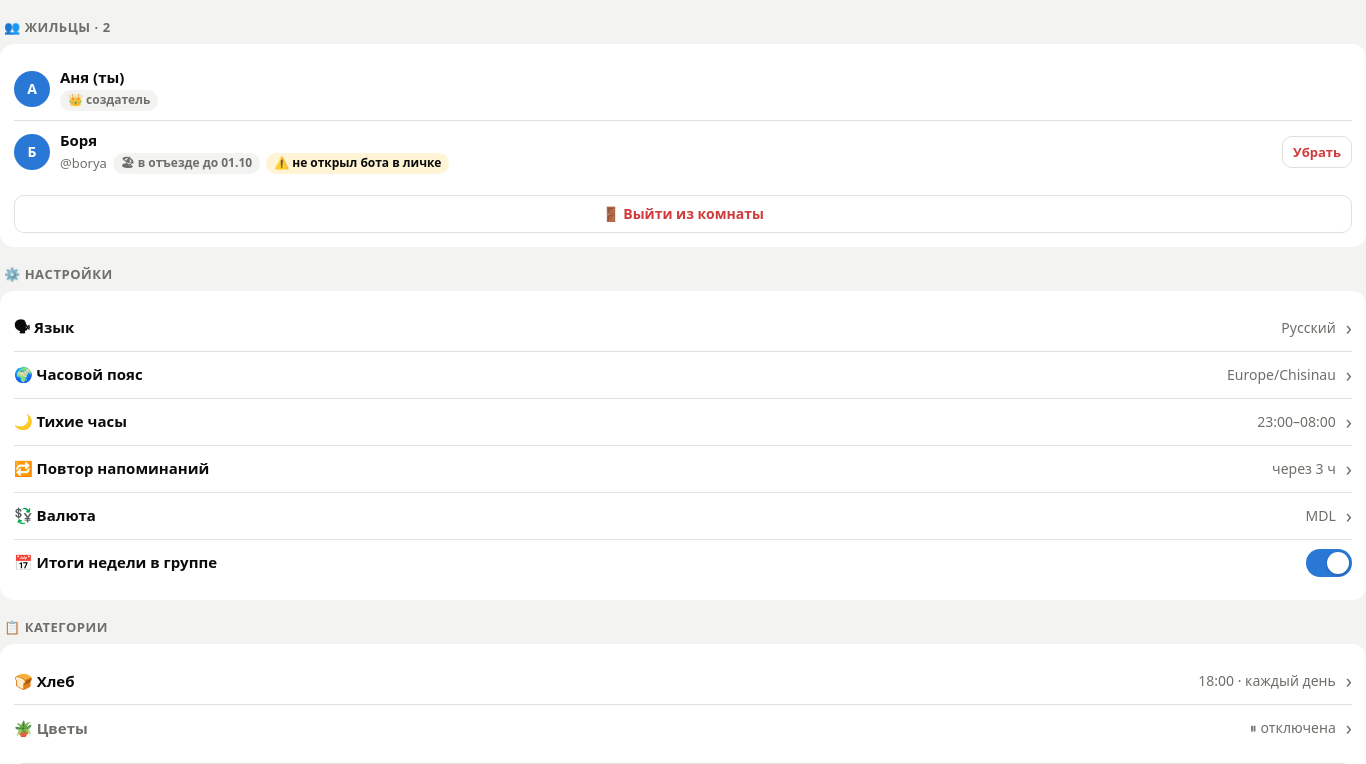
room actions › removes a roommate, leaves the room and exports after the right questions
Step 1. Click the button with aria-label "Убрать: Боря" → (1317, 152), box [1282, 136, 1352, 168]
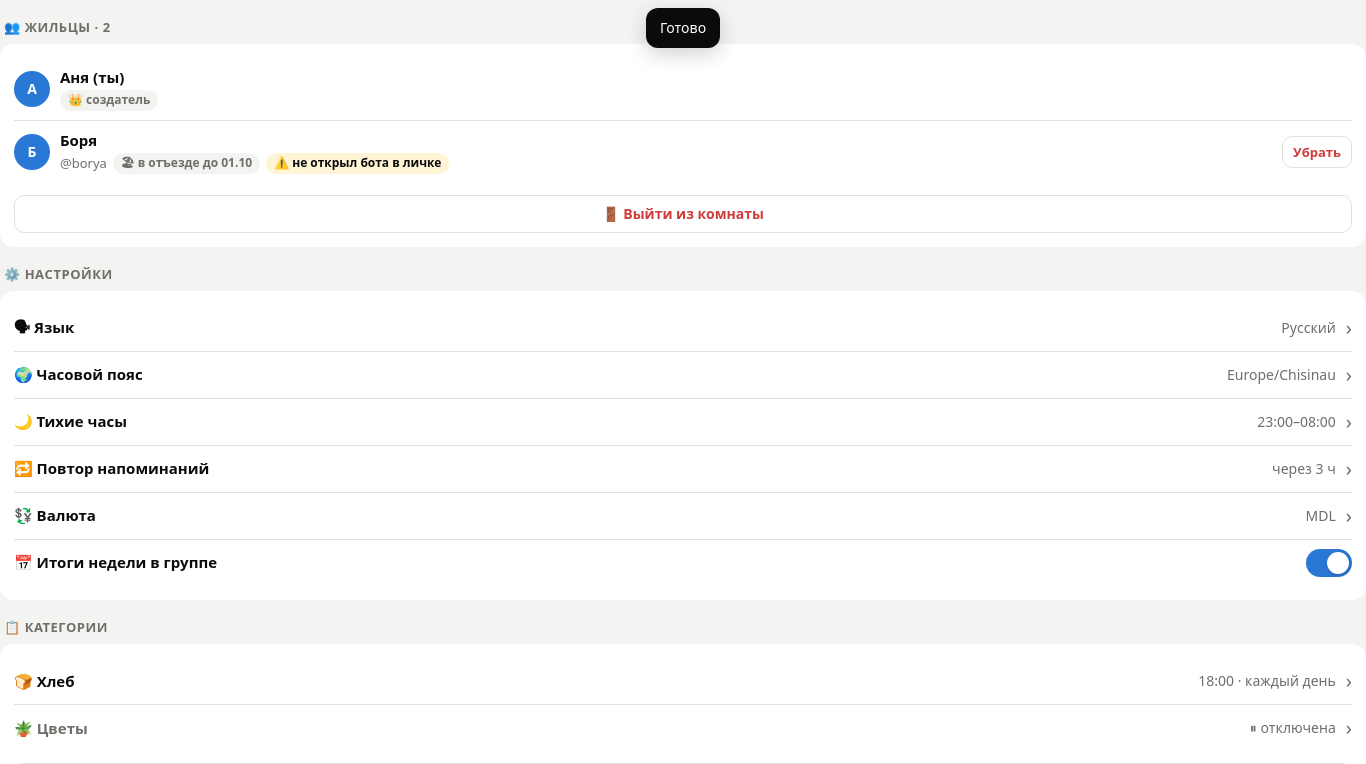
Step 2. Click the button "🚪 Выйти из комнаты" → (683, 214), box [14, 195, 1352, 233]
(page scrolled)
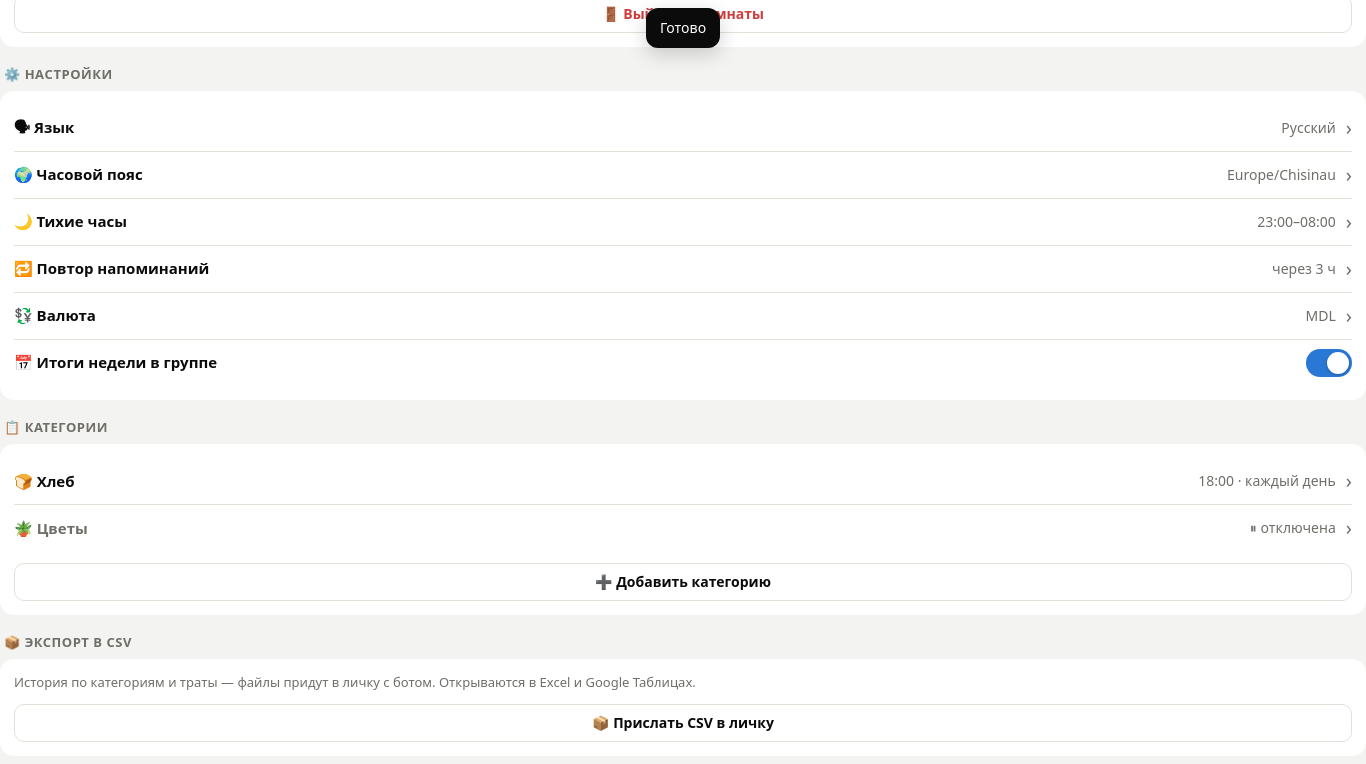
Step 3. Click the button "📦 Прислать CSV в личку" → (683, 722), box [14, 704, 1352, 742]
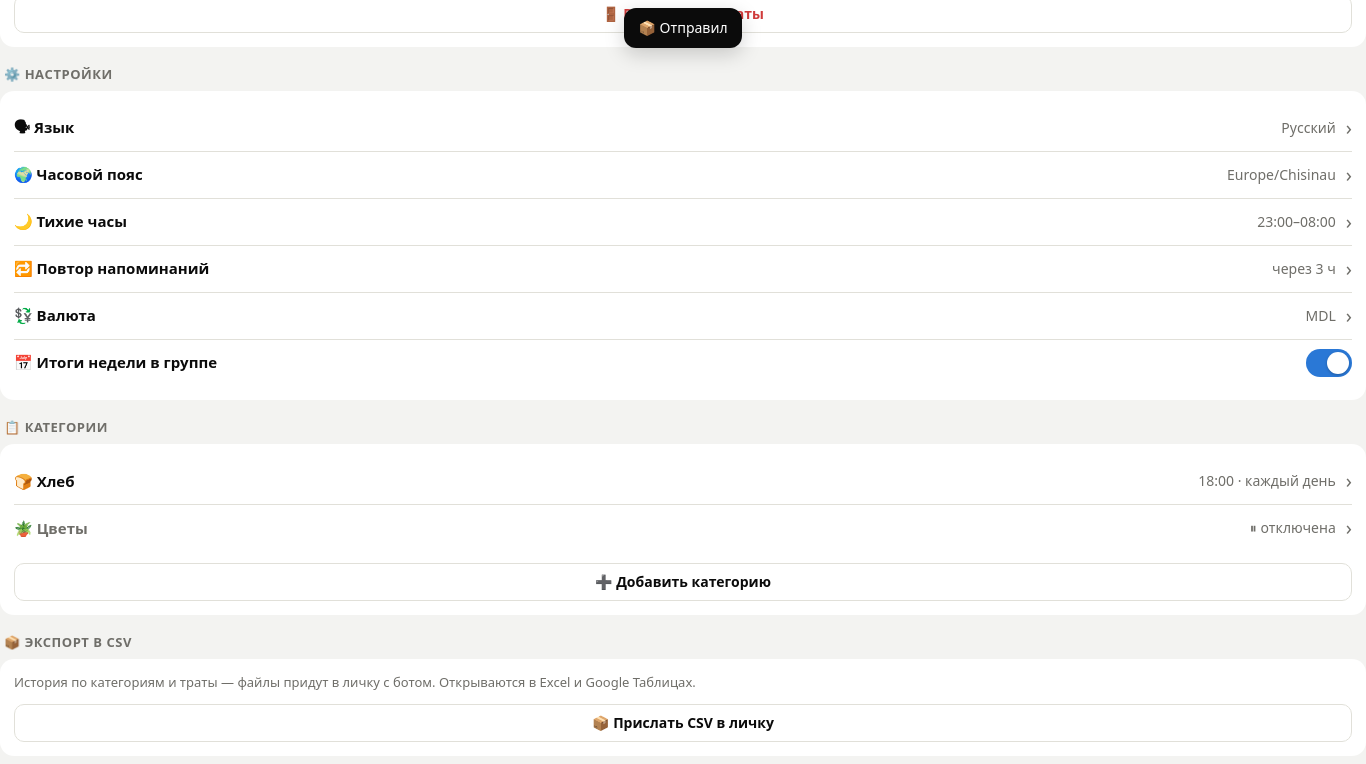
Expected: the button "📦 Отправил" is shown, [624, 8, 742, 48]
